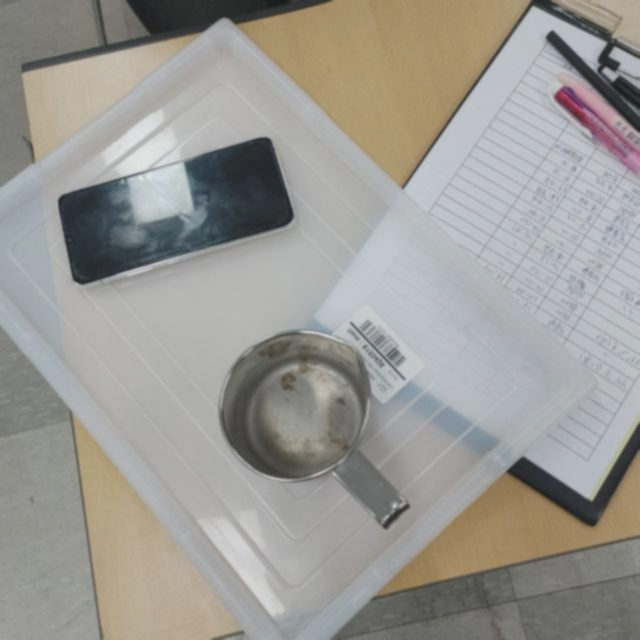cup: (217, 330, 409, 530)
phone: (58, 137, 294, 287)
